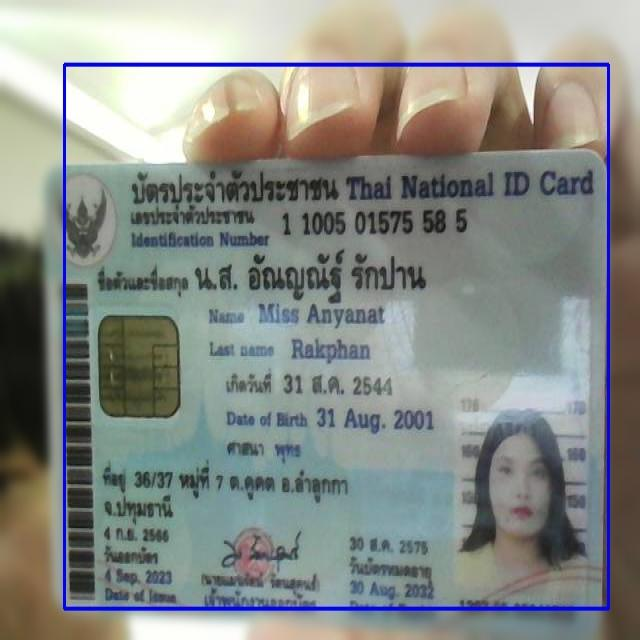Address_th: (100, 456, 357, 524)
Date_of_Birth: (312, 401, 438, 437)
Date_of_Expiry: (346, 575, 438, 605)
Date_of_Issue: (100, 563, 180, 589)
First_Name: (255, 298, 387, 332)
ID_Number: (278, 201, 476, 242)
Image: (456, 392, 585, 600)
Last_Name: (286, 334, 376, 368)
Thai_Name: (194, 245, 444, 306)
